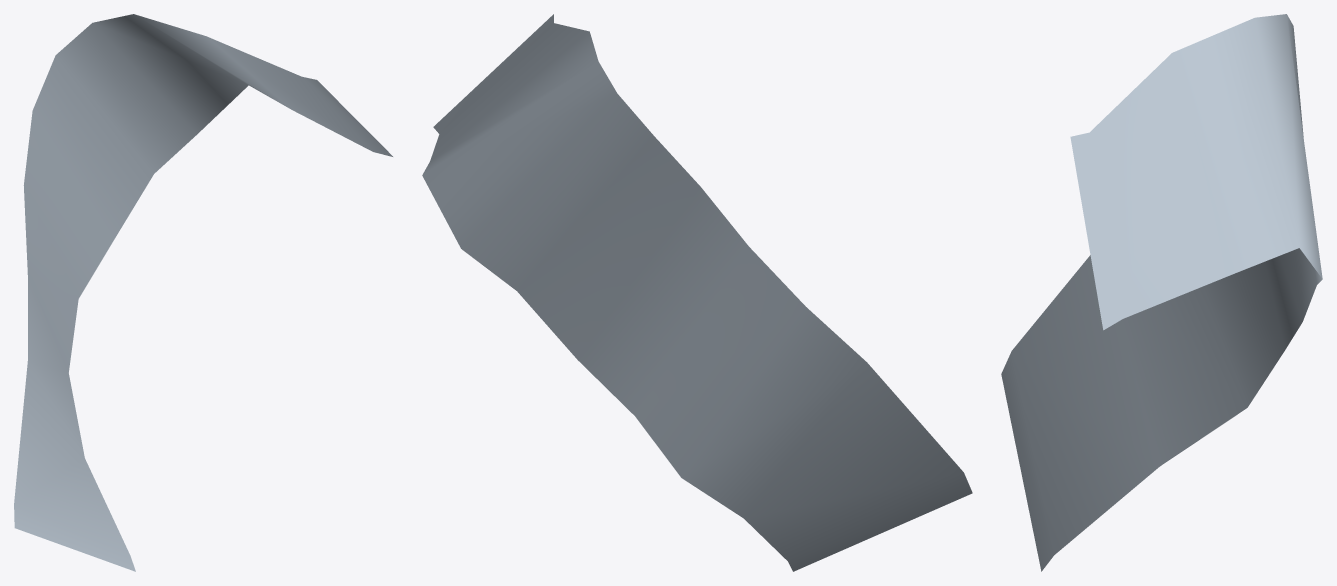
The model's file is popliteofibular-ligament-r.glb.
3 renders of one model, left to right at view 1: azimuth 30°, elevation 25°; view 2: azimuth 150°, elevation 25°; view 3: azimuth 270°, elevation 25°, orthographic. The views are drawn at different scales.
Parts seen in each view (by area): view 1: Popliteofibular ligament.r; view 2: Popliteofibular ligament.r; view 3: Popliteofibular ligament.r.
Boxes of the visible parts, box(x1,y1,x2,y2) form: Popliteofibular ligament.r: box(14, 14, 392, 571); Popliteofibular ligament.r: box(422, 14, 972, 571); Popliteofibular ligament.r: box(1001, 14, 1322, 571).
Size of the model in its own units: 0.0283 by 0.0307 by 0.0148.
